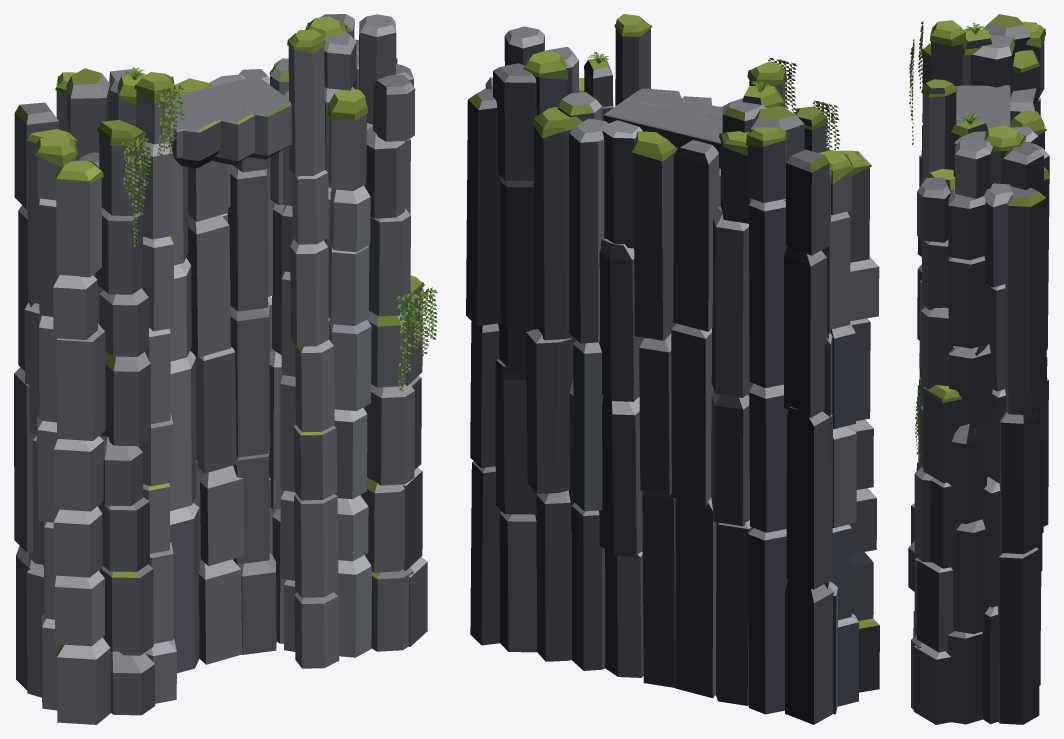
Rendered from wf_basalt_cliff.glb.
The picture shows the model from 3 angles, left to right: view 1: azimuth 30°, elevation 25°; view 2: azimuth 150°, elevation 25°; view 3: azimuth 270°, elevation 25°; orthographic projection. The views are drawn at different scales.
Parts seen in each view (by area): view 1: wf_basalt_cliff; view 2: wf_basalt_cliff; view 3: wf_basalt_cliff.
Boxes of the visible parts, bbox=[...] form: wf_basalt_cliff: bbox=[14, 14, 437, 724]; wf_basalt_cliff: bbox=[466, 14, 879, 724]; wf_basalt_cliff: bbox=[908, 14, 1049, 724].
Size of the model in its own units: 30.06 by 47.92 by 10.47.
